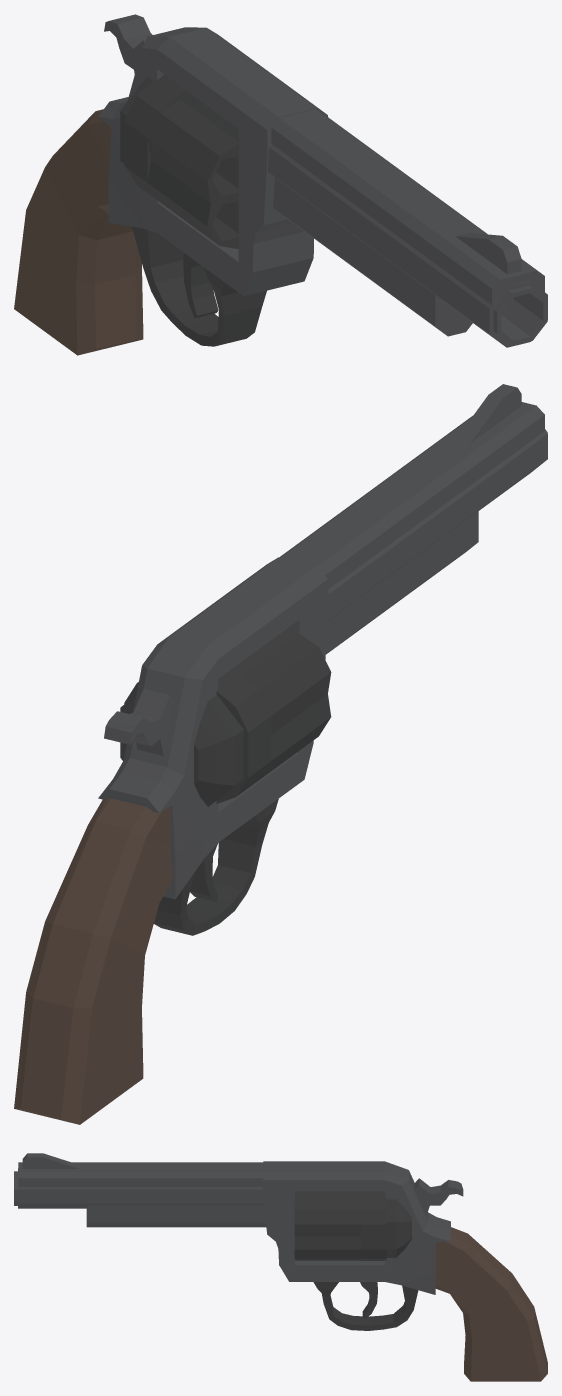
The model's file is revolver-1.glb.
3 views of the same model, one above another, from view 1: azimuth 30°, elevation 25°; view 2: azimuth 150°, elevation 25°; view 3: azimuth 270°, elevation 25° (orthographic). The views are drawn at different scales.
Parts seen in each view (by area): view 1: Revolver_1; view 2: Revolver_1; view 3: Revolver_1.
Part boxes in pixels (left/top/right/bottom): Revolver_1: left=14, top=14, right=547, bottom=355; Revolver_1: left=14, top=384, right=547, bottom=1124; Revolver_1: left=14, top=1153, right=547, bottom=1381.
Bounding box in the file's own units: 0.0327 × 0.0988 × 0.22.
